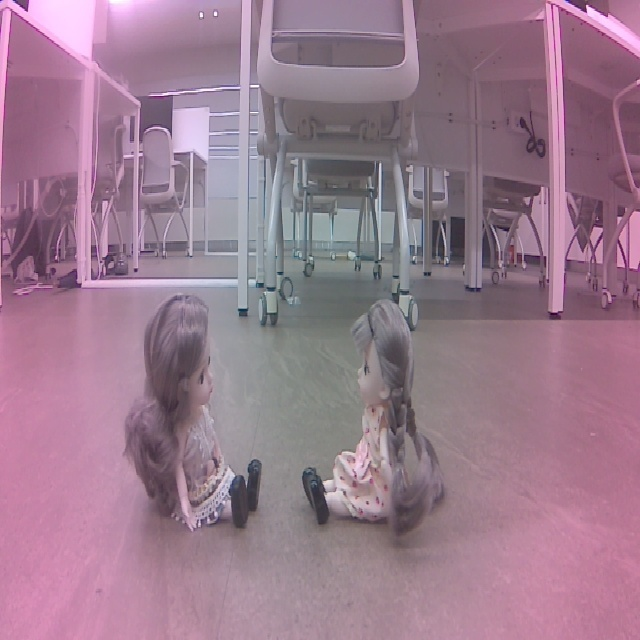장애물: (149, 266, 331, 502), (400, 263, 551, 499)
